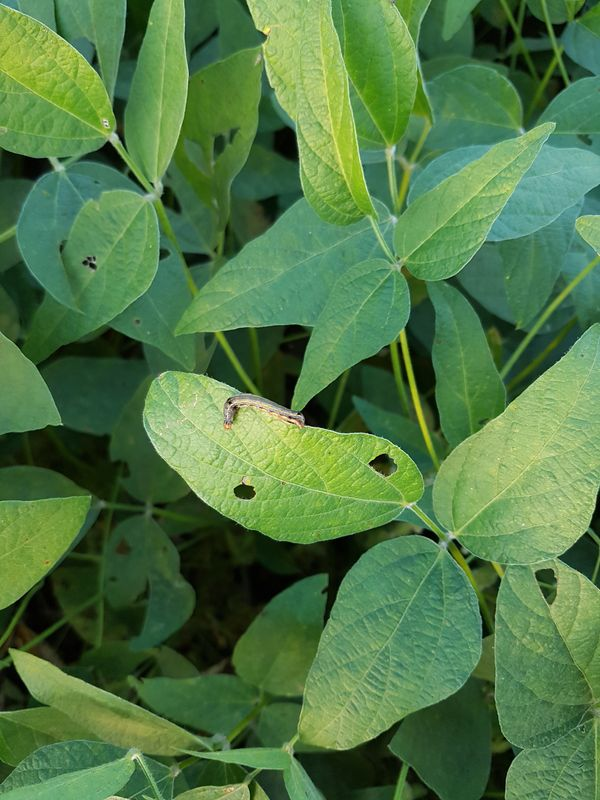Spodoptera_albula: (213, 385, 319, 446)
